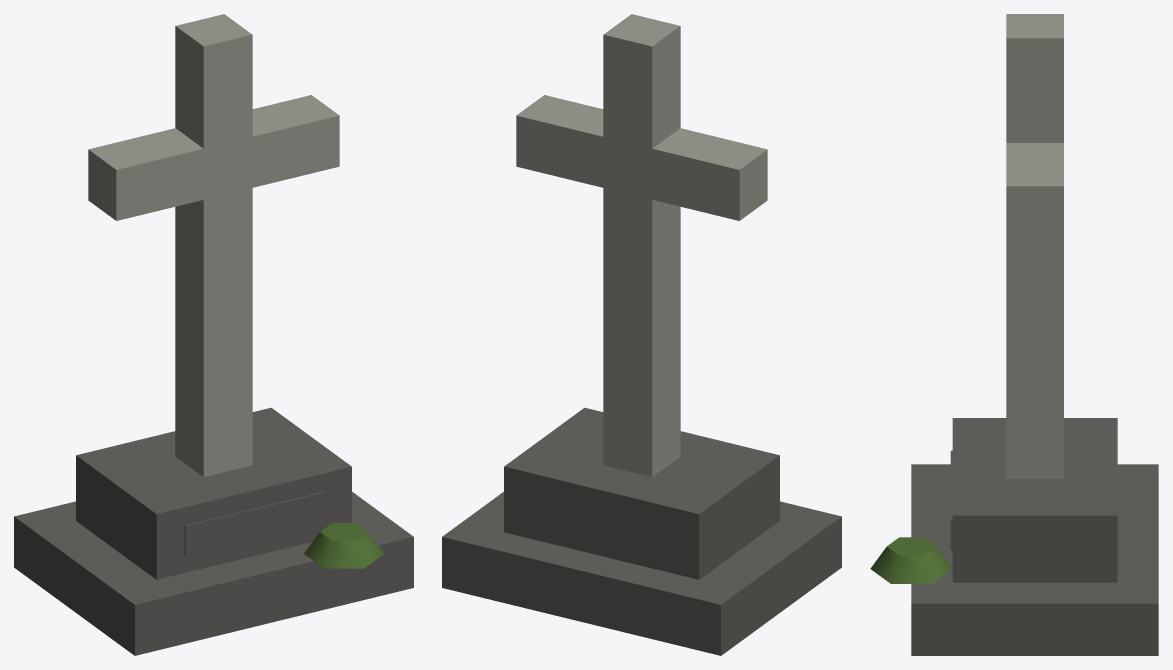
Rendered from gravestone_cross.glb.
3 renders of one model, left to right at view 1: azimuth 30°, elevation 25°; view 2: azimuth 150°, elevation 25°; view 3: azimuth 270°, elevation 25°, orthographic. The views are drawn at different scales.
Parts seen in each view (by area): view 1: gravestone_cross; view 2: gravestone_cross; view 3: gravestone_cross.
Boxes of the visible parts, x1=… form: gravestone_cross: x1=14, y1=14, x2=413, y2=655; gravestone_cross: x1=442, y1=14, x2=841, y2=655; gravestone_cross: x1=870, y1=14, x2=1158, y2=655.
Size of the model in its own units: 0.8 by 1.5 by 0.7.
Materials: 1 (1 with a texture image).
